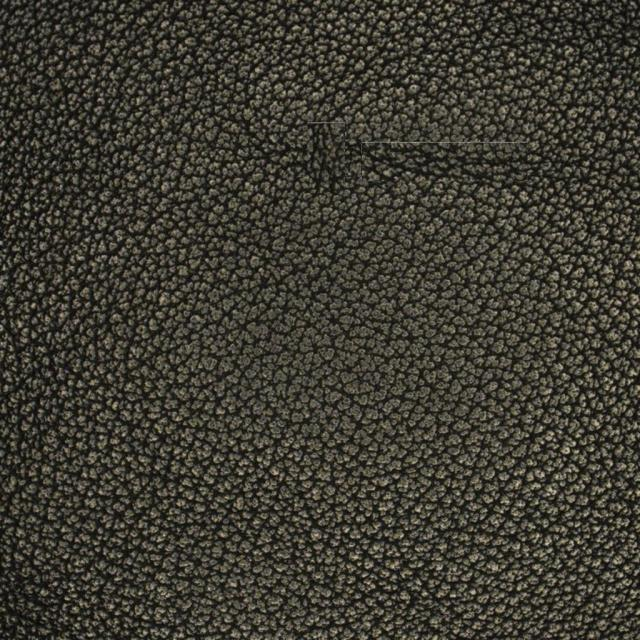Healed Injury: (360, 73, 571, 239), (150, 102, 344, 225)
